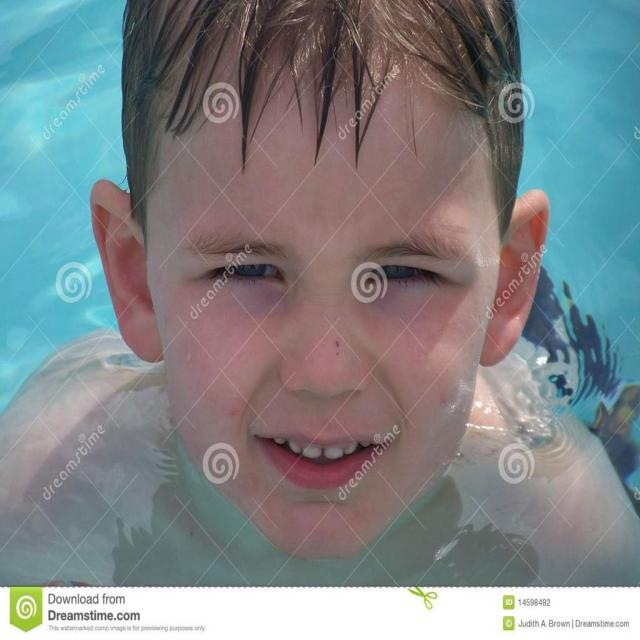nomask: (144, 118, 496, 550)
